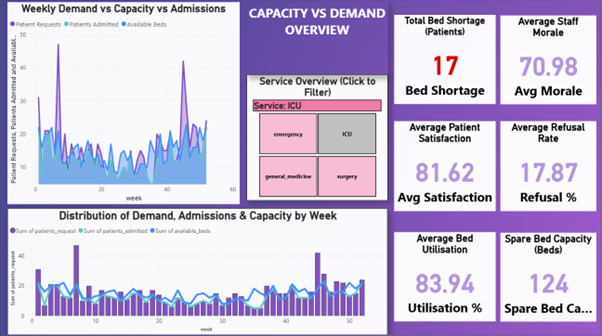

Layout of this report page (visuals, bound fields, positions):
{"tool":"powerbi","page":{"name":"Capacity vs Demand Overview","canvas":[1280,720],"ordinal":0},"visuals":[{"type":"lineChart","title":"Weekly Demand vs Capacity vs Admissions","fields":{"Category":["ServiceCapacityStaff.week"],"Y":["Sum(ServiceCapacityStaff.patients_request)","Sum(ServiceCapacityStaff.patients_admitted)","Sum(ServiceCapacityStaff.available_beds)"]},"box":[10,7.5,497.6,432.9],"z":0},{"type":"slicer","title":"Service Overview (Click to Filter)","fields":{"Values":["ServiceCapacityStaff.service"]},"box":[522.5,163,302.3,269.9],"z":1000},{"type":"lineClusteredColumnComboChart","title":"Distribution of Demand, Admissions & Capacity by Week","fields":{"Category":["ServiceCapacityStaff.week"],"Y":["Sum(ServiceCapacityStaff.patients_request)"],"Y2":["Sum(ServiceCapacityStaff.patients_admitted)","Sum(ServiceCapacityStaff.available_beds)"]},"box":[10,449.1,814.8,271.2],"z":2000},{"type":"card","title":"Total Bed Shortage (Patients)","fields":{"Values":["ServiceCapacityStaff.Bed Shortage"]},"box":[838.4,35,217.7,191.6],"z":3000},{"type":"card","title":"Average Bed Utilisation","fields":{"Values":["ServiceCapacityStaff.Utilisation %"]},"box":[838.4,500.3,217.7,191.6],"z":4000},{"type":"card","title":"Average Refusal Rate","fields":{"Values":["ServiceCapacityStaff.Refusal %"]},"box":[1066.1,262.2,205.3,192.8],"z":5000},{"type":"card","title":"Spare Bed Capacity (Beds)","fields":{"Values":["ServiceCapacityStaff.Spare Capacity"]},"box":[1066.1,501.6,205.3,190.3],"z":6000},{"type":"card","title":"Average Patient Satisfaction","fields":{"Values":["ServiceCapacityStaff.Avg Satisfaction"]},"box":[838.4,262.2,217.7,192.8],"z":7000},{"type":"card","title":"Average Staff Morale","fields":{"Values":["ServiceCapacityStaff.Avg Morale"]},"box":[1066.1,36.3,205.3,190.3],"z":8000},{"type":"textbox","box":[522,7,302,156],"z":9000}]}

Visuals, with their boxes in screenshot pixels (x1, y1, x2, y2), scaled from the page's 1280x720 canvas onto the 602x336 screenshot:
"Weekly Demand vs Capacity vs Admissions" lineChart: box=[5, 4, 239, 206]
"Service Overview (Click to Filter)" slicer: box=[246, 76, 388, 202]
"Distribution of Demand, Admissions & Capacity by Week" lineClusteredColumnComboChart: box=[5, 210, 388, 335]
"Total Bed Shortage (Patients)" card: box=[394, 16, 497, 106]
"Average Bed Utilisation" card: box=[394, 233, 497, 323]
"Average Refusal Rate" card: box=[501, 122, 598, 212]
"Spare Bed Capacity (Beds)" card: box=[501, 234, 598, 323]
"Average Patient Satisfaction" card: box=[394, 122, 497, 212]
"Average Staff Morale" card: box=[501, 17, 598, 106]
textbox: box=[246, 3, 388, 76]
